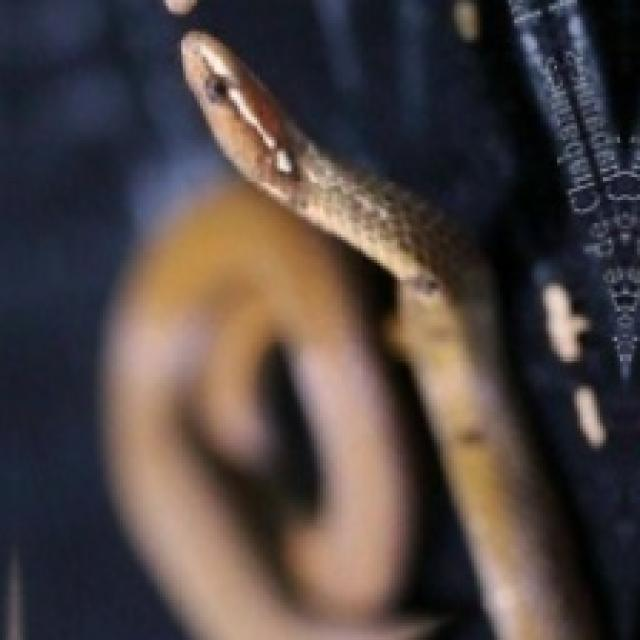philippine stripe-lipped: (180, 31, 594, 637)
